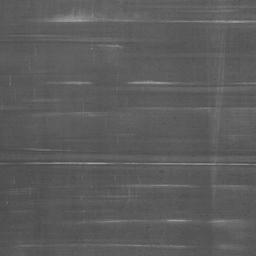Waist folding: (0, 137, 256, 252), (0, 4, 256, 49), (0, 79, 256, 119), (173, 51, 238, 58)
